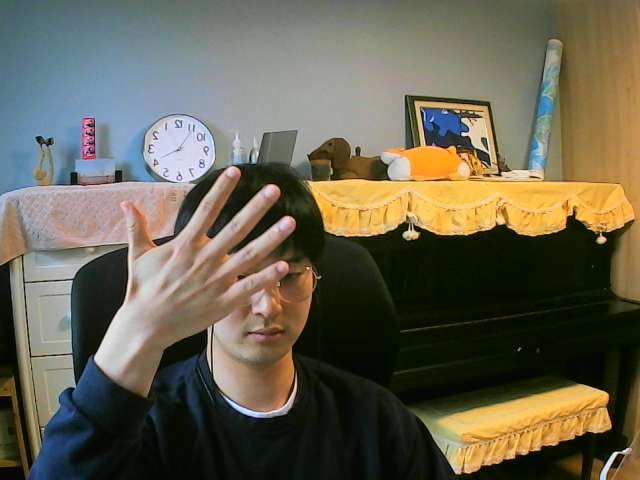five: (99, 154, 305, 363)
